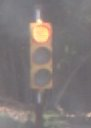Red: (28, 19, 52, 101)
